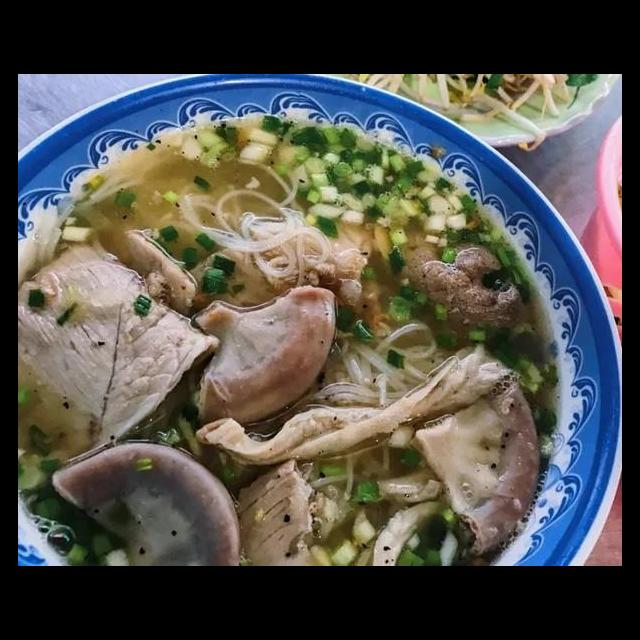banh hu tieu: (137, 154, 336, 295), (300, 316, 464, 420)
hu tieu: (18, 109, 622, 566)
thit heo: (19, 225, 225, 495), (235, 450, 330, 566)
